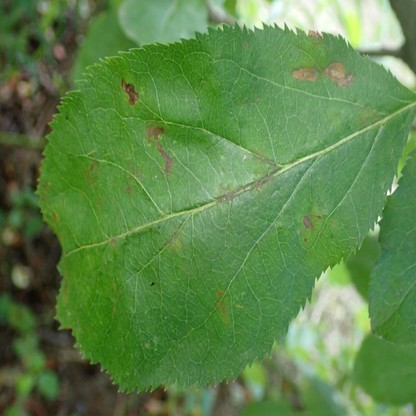frogeye_leaf_spot: (321, 62, 352, 87), (121, 80, 139, 105), (293, 68, 317, 82)
scab: (214, 147, 278, 204), (298, 207, 354, 271), (325, 104, 383, 139), (82, 169, 105, 206), (161, 229, 183, 258), (123, 163, 140, 195), (218, 288, 228, 323), (62, 275, 70, 308), (39, 178, 47, 203)
